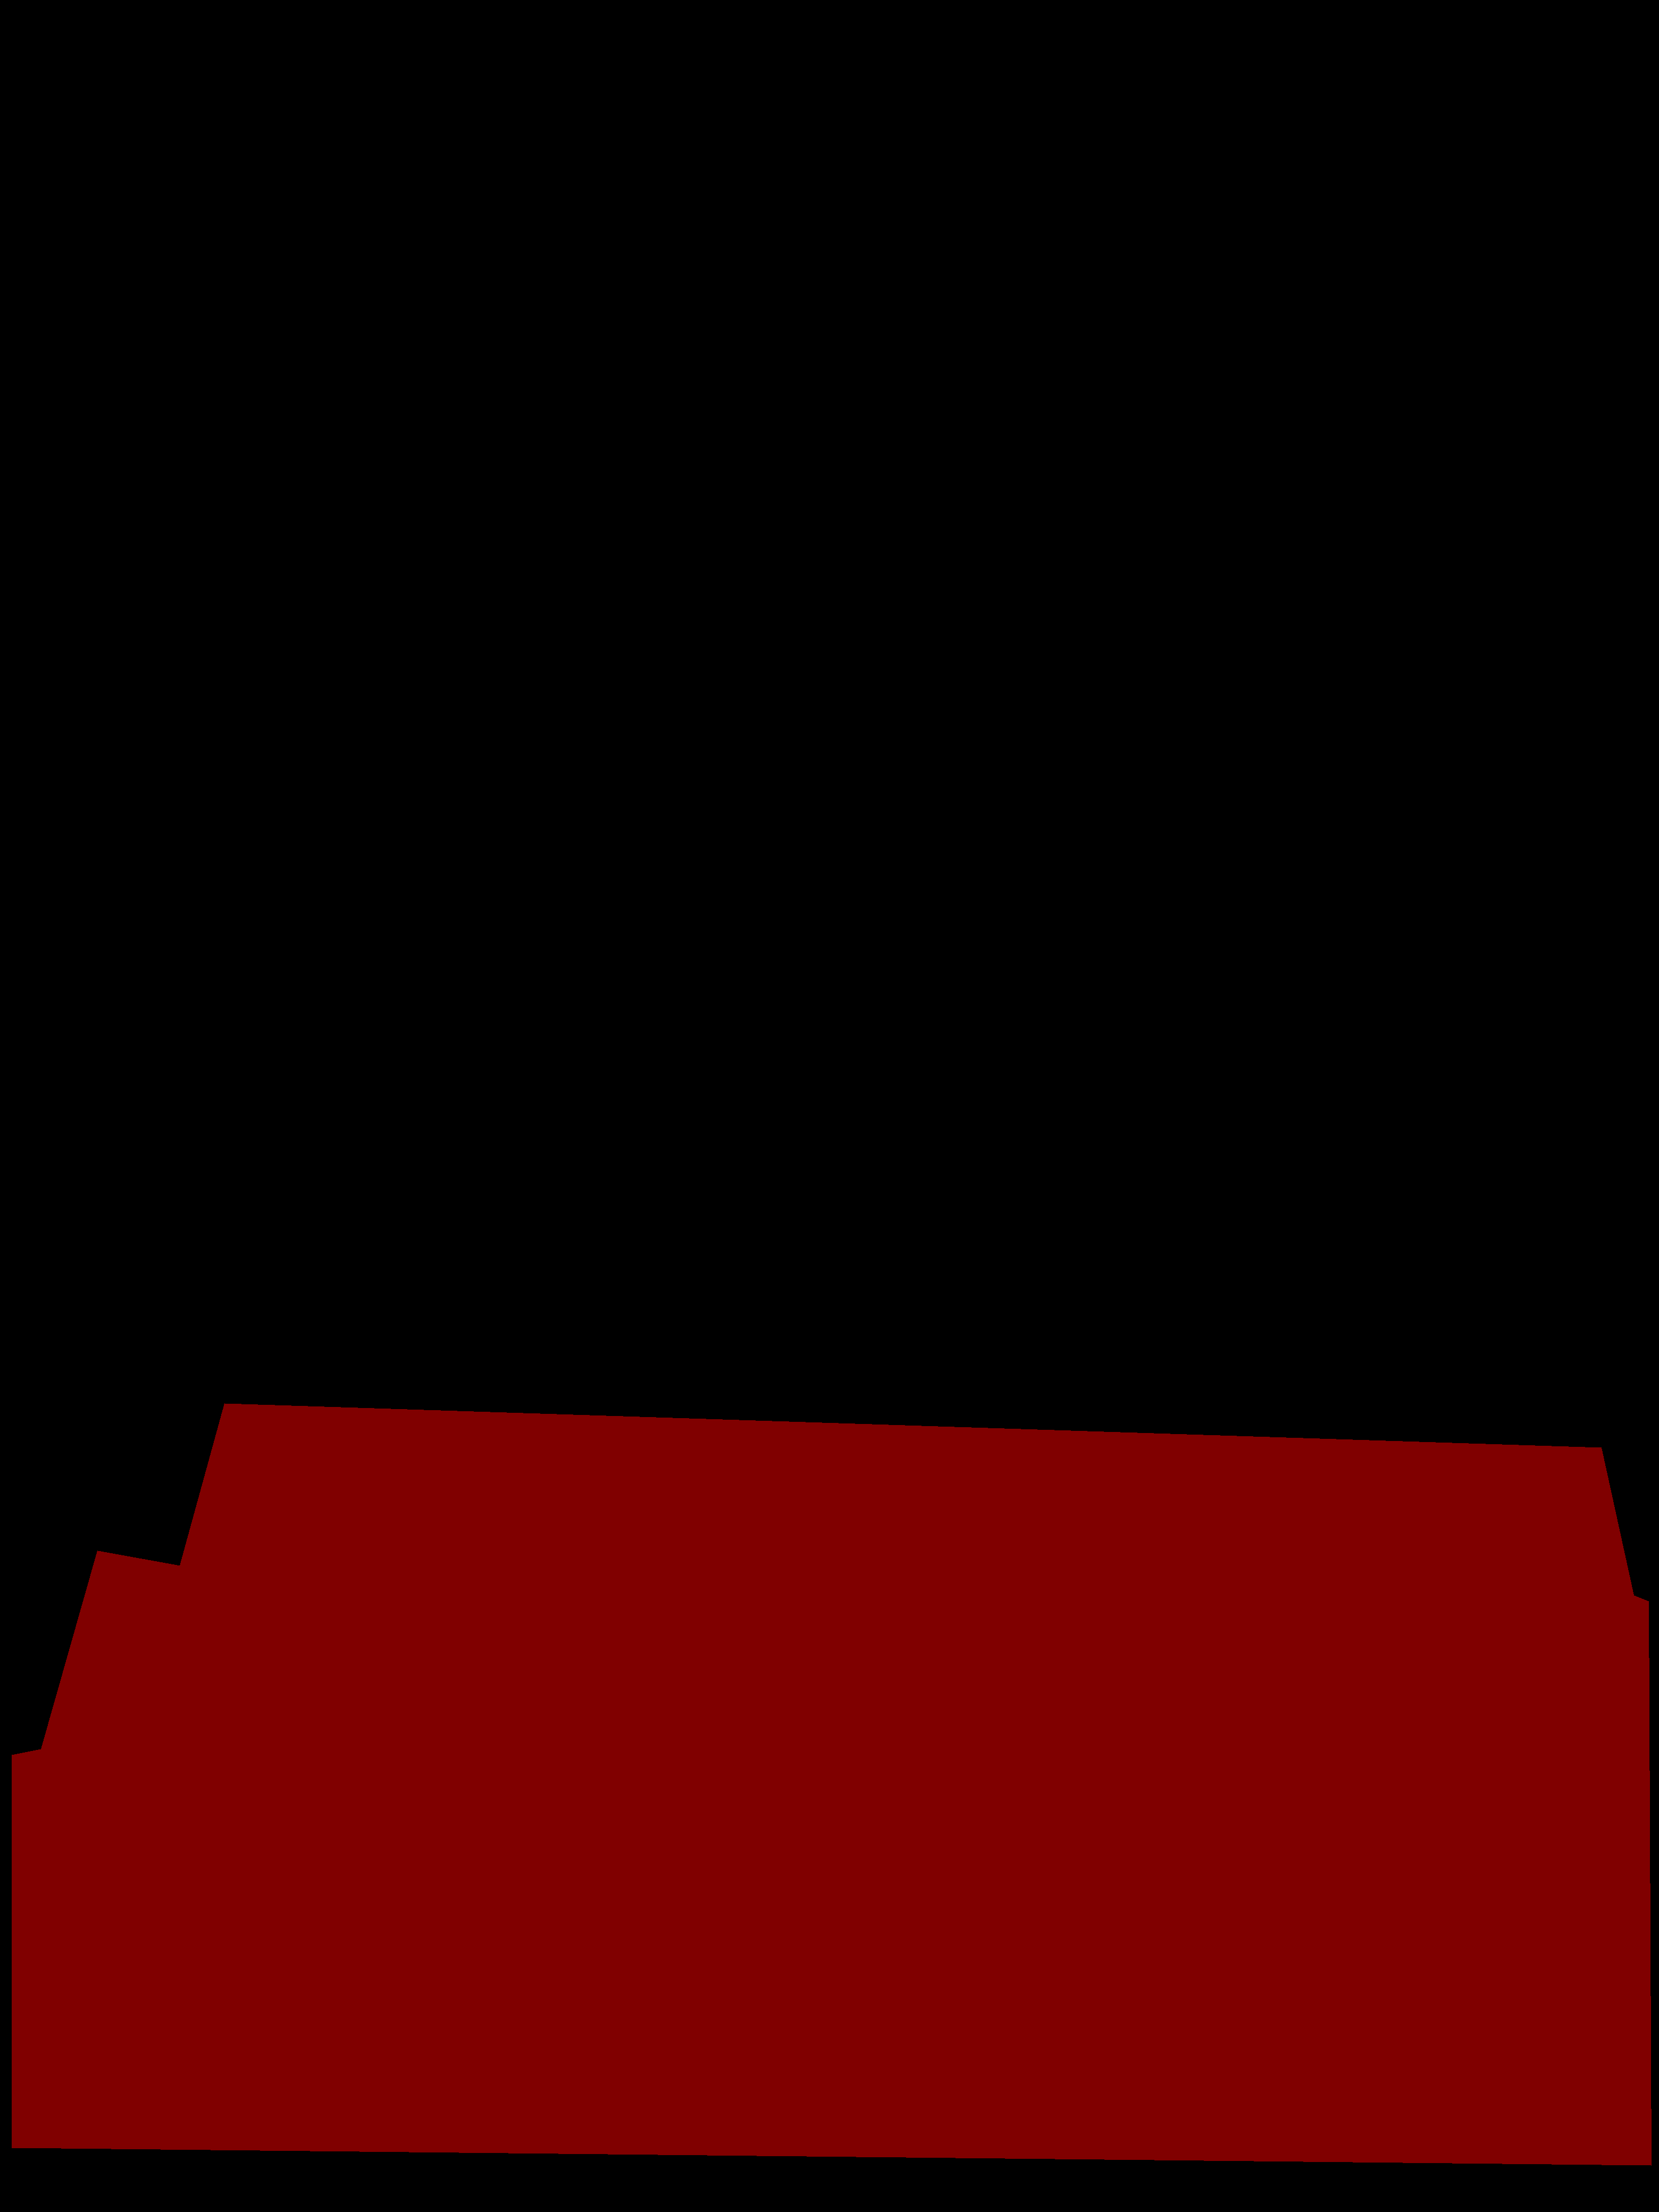stair: (12, 1404, 1650, 2165)
